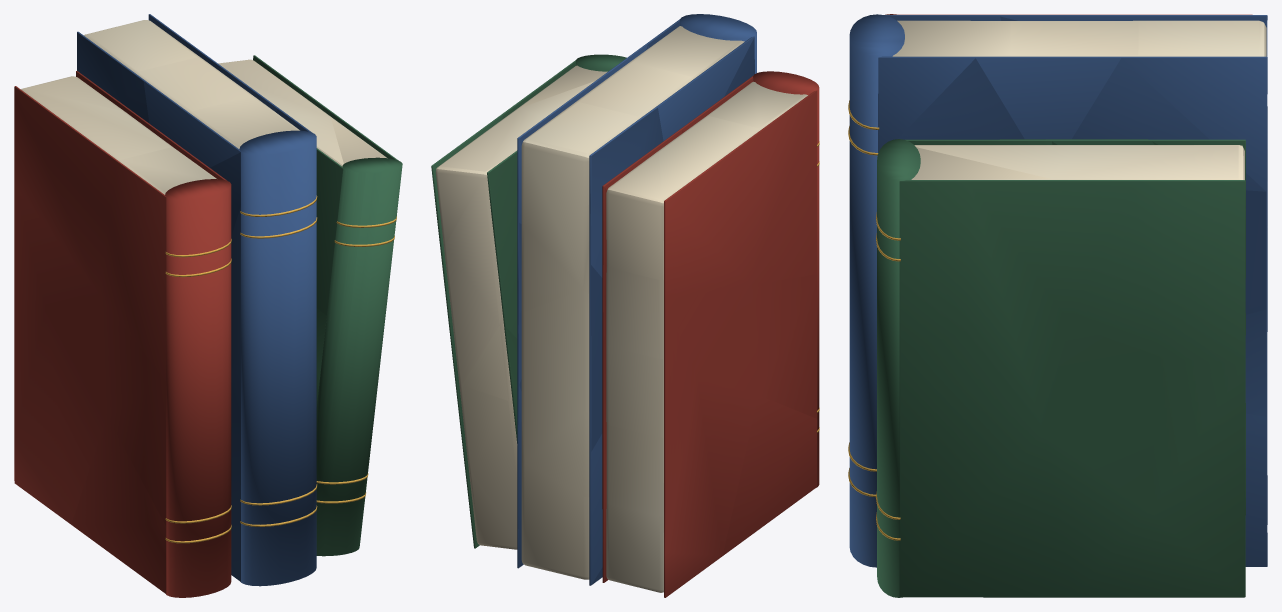
The model's file is frost_book_upright_lod1.glb.
The picture shows the model from 3 angles, left to right: view 1: azimuth 30°, elevation 25°; view 2: azimuth 150°, elevation 25°; view 3: azimuth 270°, elevation 25°; orthographic projection. The views are drawn at different scales.
Visible parts, largest first — view 1: frost_book_upright.001; view 2: frost_book_upright.001; view 3: frost_book_upright.001.
Part boxes in pixels (x1,y1,x2,y2): frost_book_upright.001: [14, 14, 402, 597]; frost_book_upright.001: [431, 14, 819, 597]; frost_book_upright.001: [848, 14, 1267, 597].
Size of the model in its own units: 45.15 by 78.05 by 58.12.
